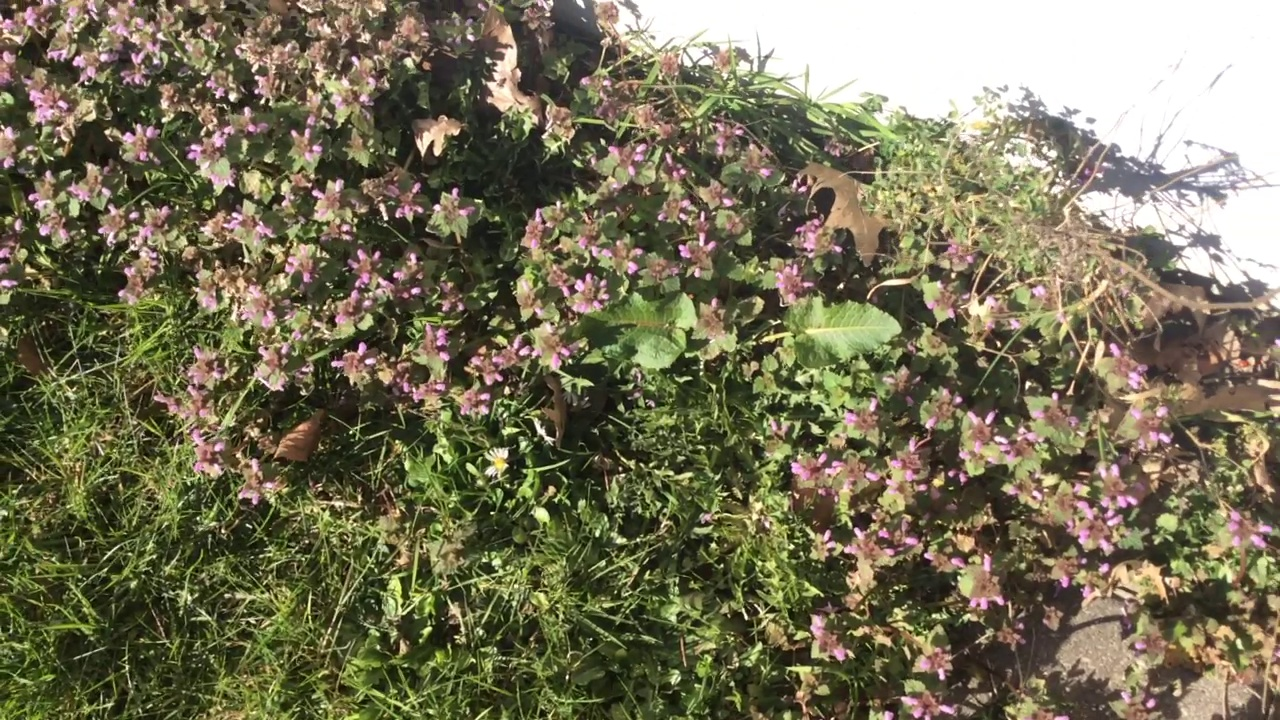rumex: (564, 293, 904, 370)
